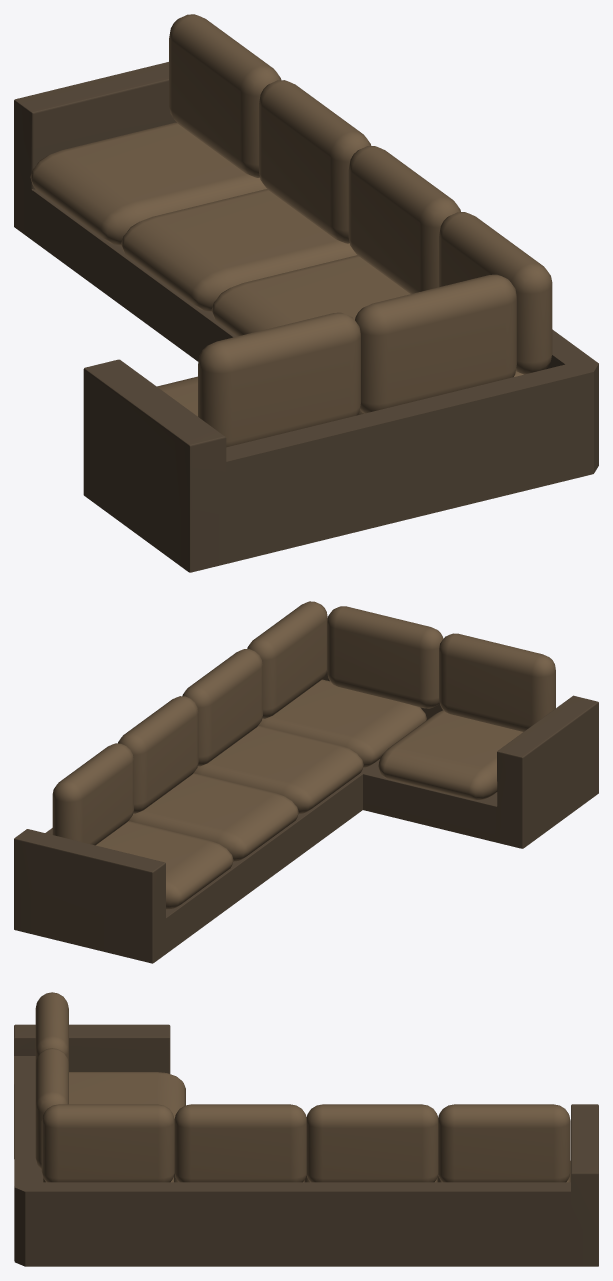
The model's file is Couch.fbx.
The picture shows the model from 3 angles, top to bottom: view 1: azimuth 30°, elevation 25°; view 2: azimuth 150°, elevation 25°; view 3: azimuth 270°, elevation 25°; orthographic projection. The views are drawn at different scales.
Parts seen in each view (by area): view 1: CouchBase, pCube6, pCube5, pCube8, pCube9, pCube2, pCube3, pCube4, pCube10, pCube7, pCube12; view 2: CouchBase, pCube6, pCube5, pCube9, pCube10, pCube12, pCube11, pCube2, pCube3, pCube4, pCube7, pCube8; view 3: CouchBase, pCube7, pCube4, pCube2, pCube3, pCube12, pCube6, pCube5.
Part boxes in pixels (left/top/right/bottom): CouchBase: left=14, top=62, right=598, bottom=572; pCube6: left=355, top=274, right=516, bottom=413; pCube5: left=198, top=312, right=360, bottom=447; pCube8: left=30, top=122, right=266, bottom=245; pCube9: left=121, top=189, right=356, bottom=311; pCube2: left=169, top=14, right=281, bottom=177; pCube3: left=259, top=80, right=371, bottom=243; pCube4: left=348, top=146, right=460, bottom=293; pCube10: left=211, top=255, right=410, bottom=336; pCube7: left=439, top=212, right=552, bottom=374; pCube12: left=157, top=376, right=197, bottom=416; CouchBase: left=14, top=672, right=598, bottom=963; pCube6: left=327, top=606, right=443, bottom=708; pCube5: left=439, top=633, right=555, bottom=731; pCube9: left=129, top=773, right=298, bottom=861; pCube10: left=194, top=725, right=363, bottom=813; pCube12: left=378, top=710, right=522, bottom=799; pCube11: left=258, top=679, right=426, bottom=767; pCube2: left=52, top=743, right=133, bottom=845; pCube3: left=118, top=696, right=198, bottom=813; pCube4: left=182, top=649, right=262, bottom=766; pCube7: left=247, top=601, right=327, bottom=718; pCube8: left=96, top=821, right=233, bottom=909; CouchBase: left=14, top=1024, right=598, bottom=1266; pCube7: left=41, top=1104, right=174, bottom=1182; pCube4: left=174, top=1104, right=306, bottom=1182; pCube2: left=438, top=1104, right=570, bottom=1182; pCube3: left=306, top=1104, right=438, bottom=1182; pCube12: left=69, top=1072, right=185, bottom=1118; pCube6: left=35, top=1048, right=68, bottom=1169; pCube5: left=35, top=992, right=68, bottom=1063.
Bounding box in the file's own units: 3.96 × 1.79 × 6.57.
